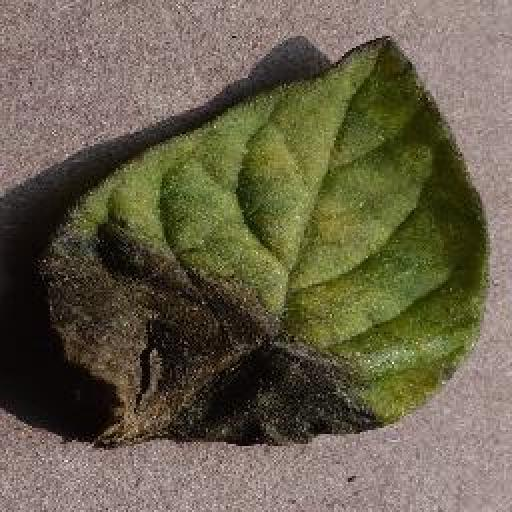disease_tomato: (40, 33, 493, 451)
